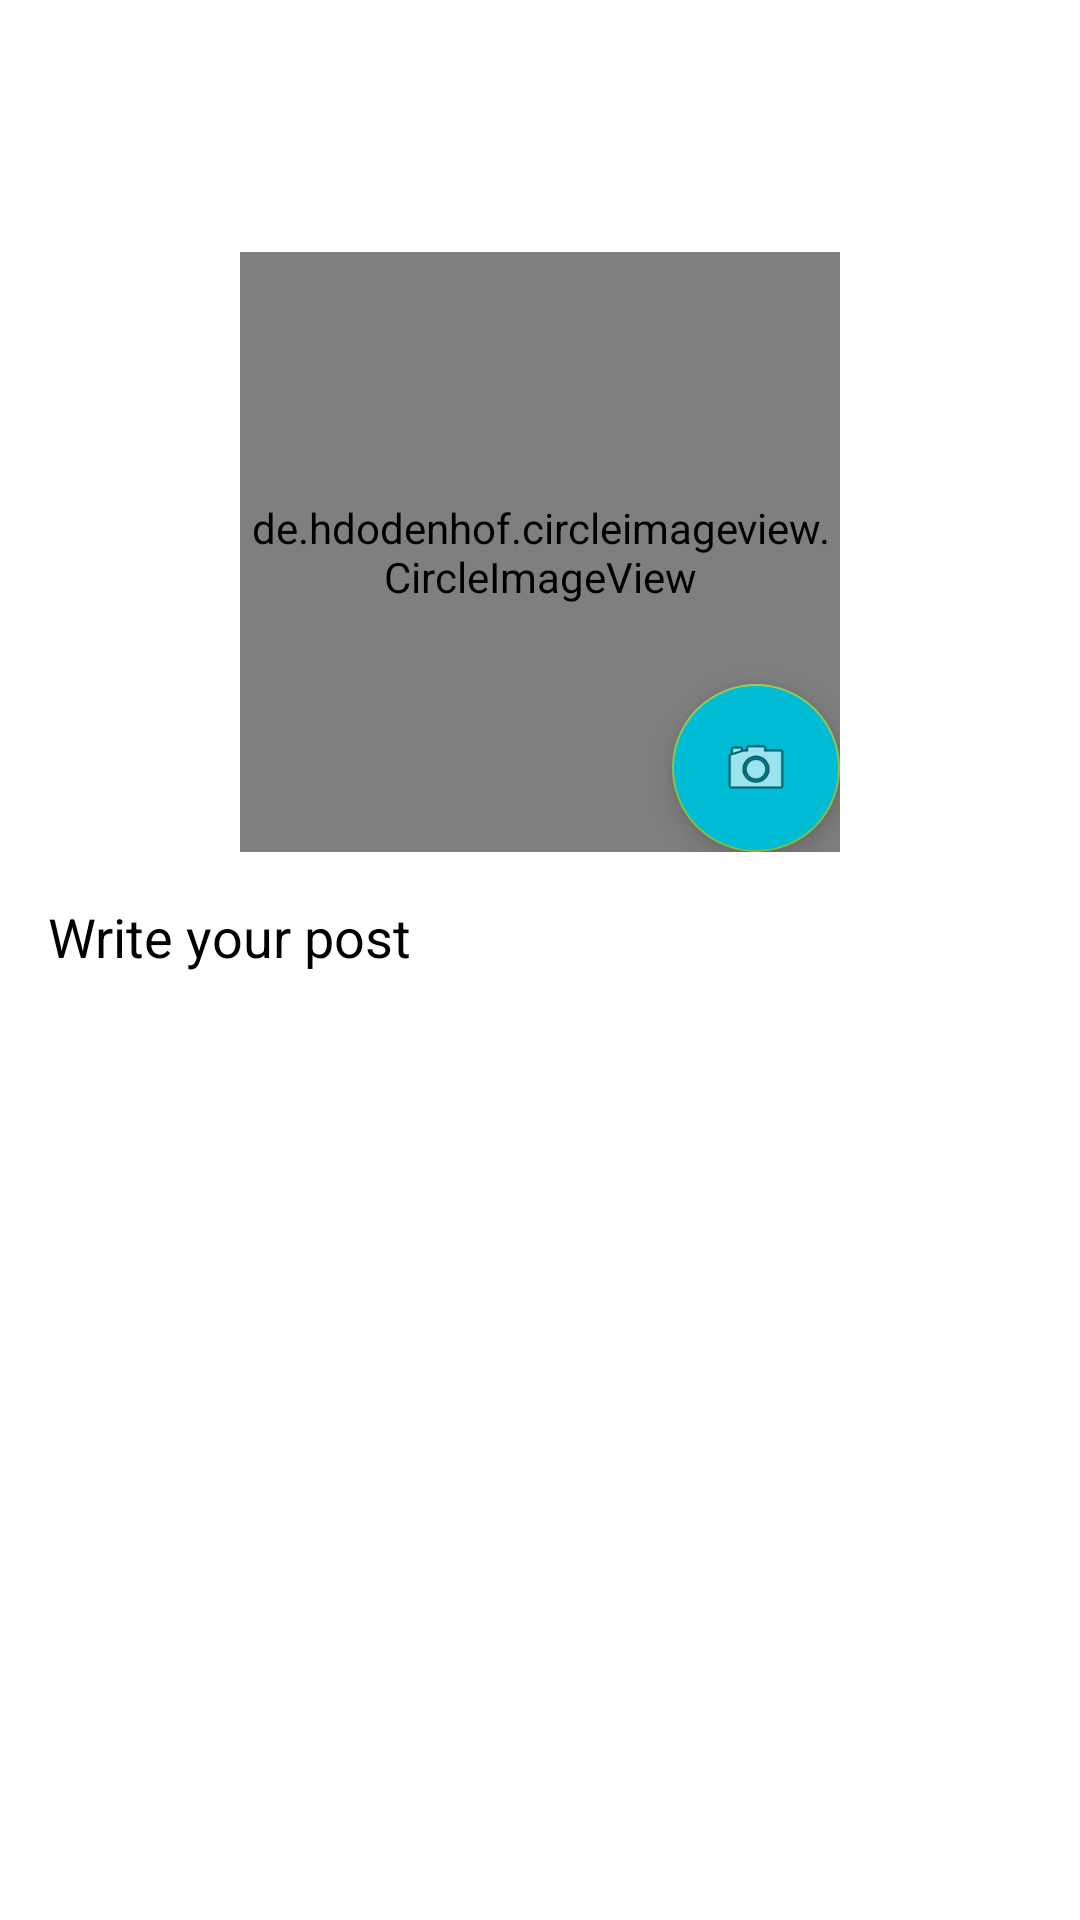

Icon click points for this 1080x1920 phone screenshot, format (x=x, y=y):
camera: (x=756, y=768)
